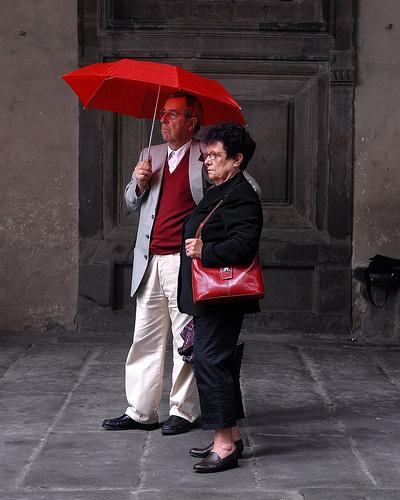person: (103, 90, 262, 435)
